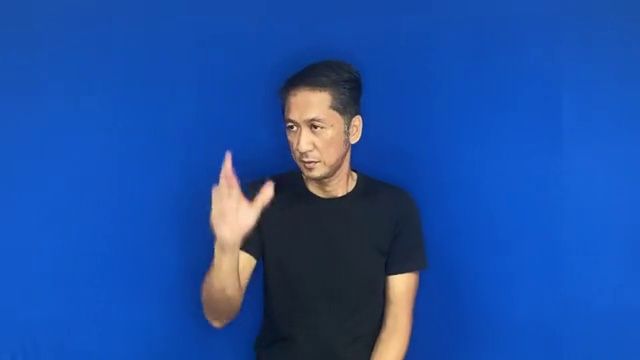chicken: (198, 143, 276, 247)
